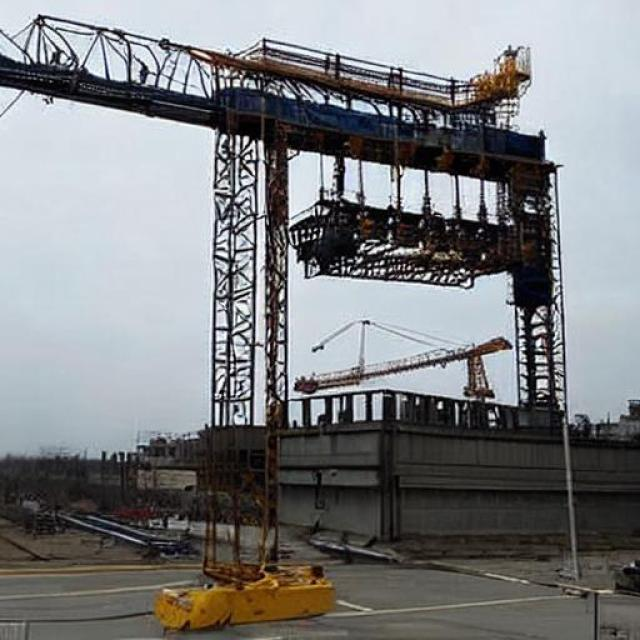crane: (39, 127, 553, 523), (302, 321, 634, 520), (316, 449, 512, 518), (52, 428, 197, 507)
